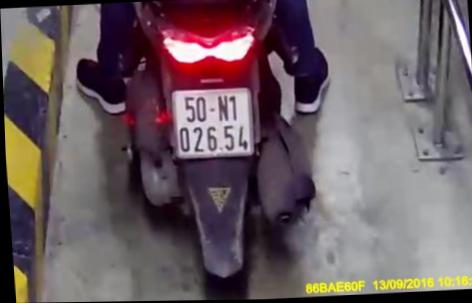LP: (167, 84, 256, 162)
